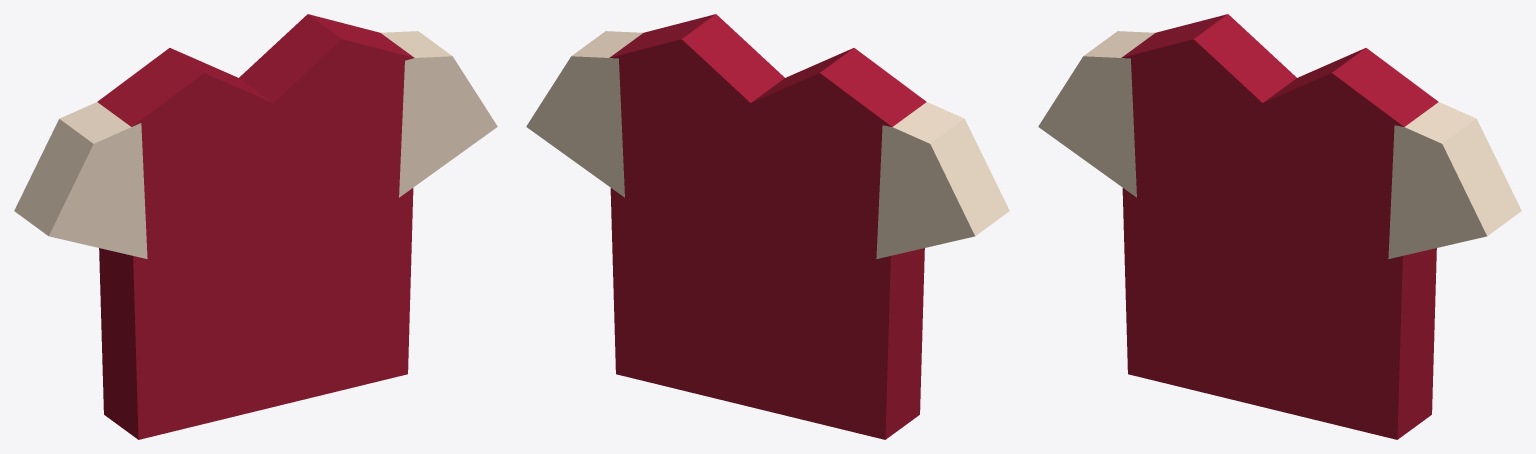
File: gunners-shirt.glb
3 renders of one model, left to right at view 1: azimuth 30°, elevation 25°; view 2: azimuth 150°, elevation 25°; view 3: azimuth 330°, elevation 25°, orthographic.
Parts seen in each view (by area): view 1: gunners-shirt · Heritage scarlet, gunners-shirt · Ivory sleeves; view 2: gunners-shirt · Heritage scarlet, gunners-shirt · Ivory sleeves; view 3: gunners-shirt · Heritage scarlet, gunners-shirt · Ivory sleeves.
Boxes of the visible parts, x1,y1,x2,y2 form: gunners-shirt · Heritage scarlet: (97,14,414,439); gunners-shirt · Ivory sleeves: (14,31,497,258); gunners-shirt · Heritage scarlet: (609,14,926,439); gunners-shirt · Ivory sleeves: (526,31,1009,258); gunners-shirt · Heritage scarlet: (1121,14,1438,439); gunners-shirt · Ivory sleeves: (1038,31,1521,258).
Size of the model in its own units: 1.5 by 1.12 by 0.2002.
